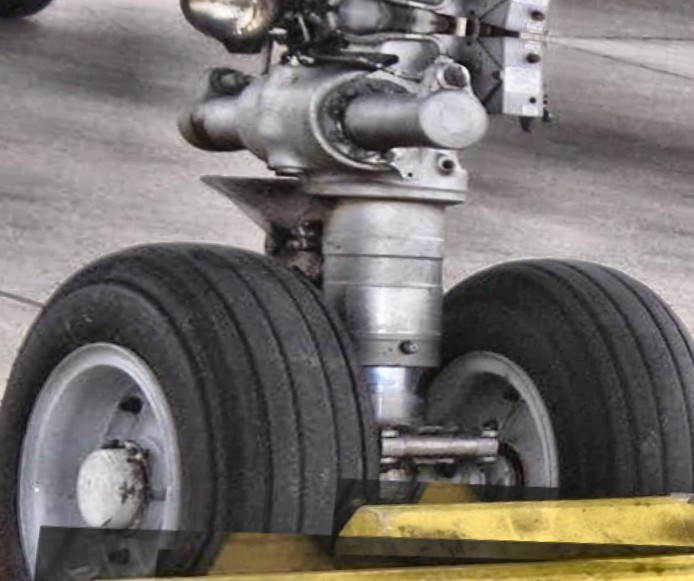chock: (324, 467, 694, 581)
wheel: (0, 227, 393, 581), (378, 245, 694, 581)
